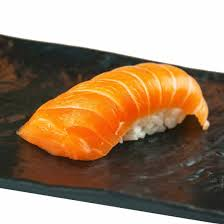salmon: (20, 59, 210, 162)
